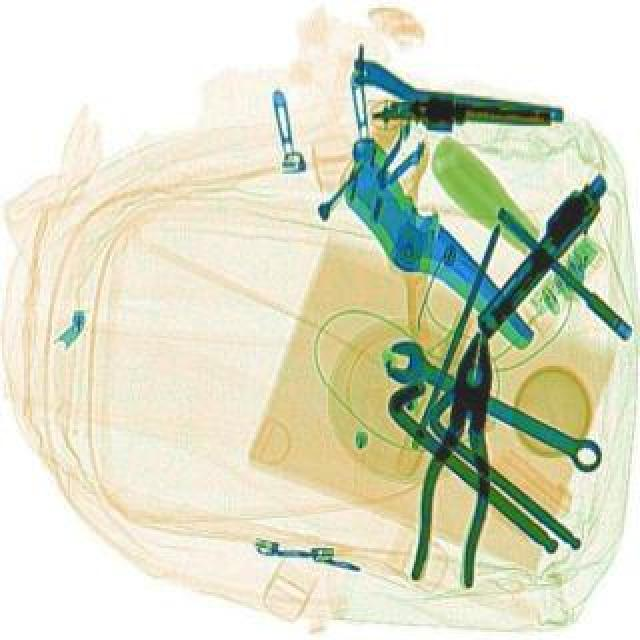gun: (460, 162, 620, 342), (354, 56, 564, 132)
scissors: (376, 334, 612, 480)
wrench: (404, 326, 516, 588)
